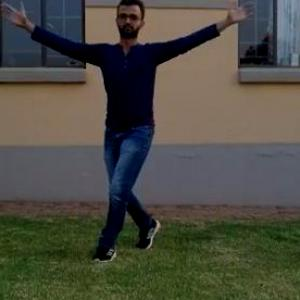takeoff: (14, 0, 224, 225)
